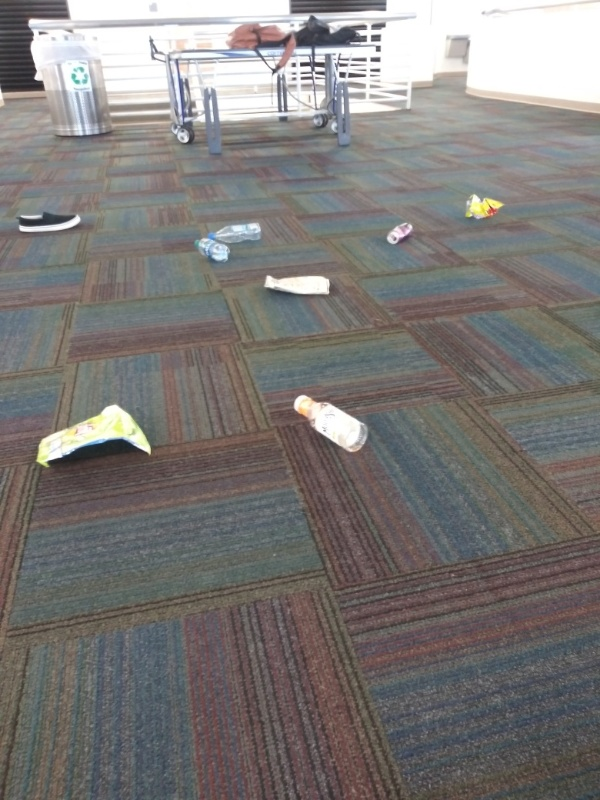bag: (29, 401, 157, 472), (257, 270, 333, 302), (459, 190, 505, 228)
bottle: (286, 392, 372, 457), (207, 222, 272, 247), (187, 234, 235, 263)
can: (381, 219, 416, 249)
